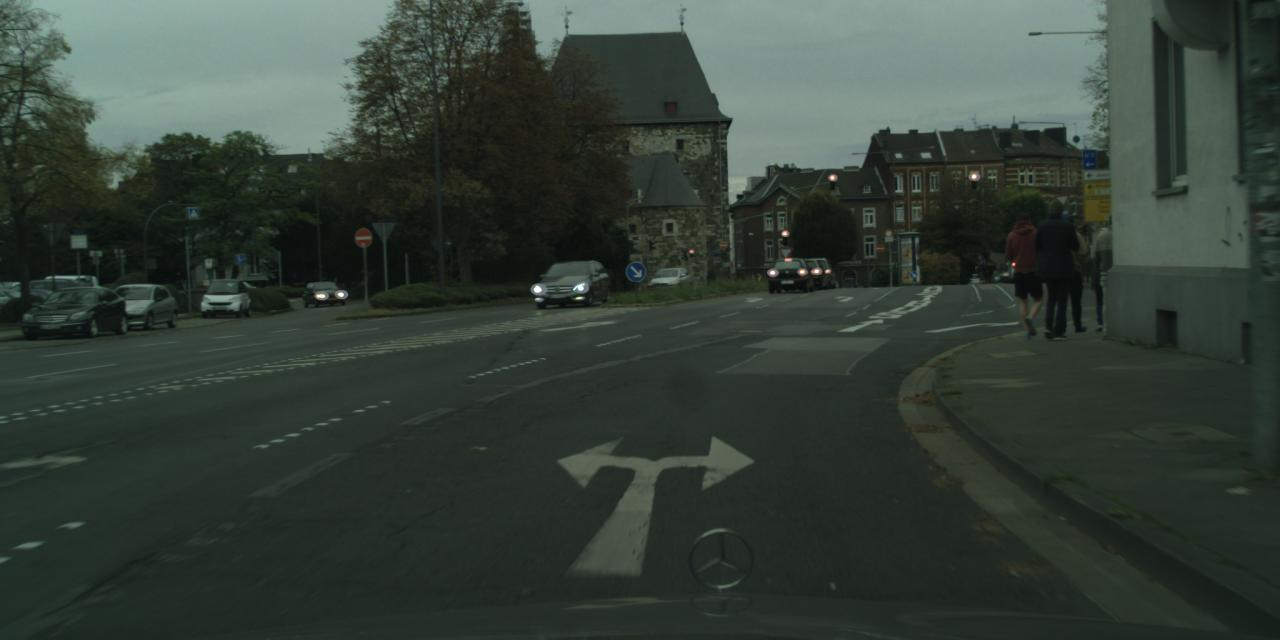ped: (1026, 198, 1082, 338), (1001, 211, 1051, 337), (1091, 213, 1140, 333), (1046, 218, 1092, 332), (1084, 233, 1124, 331), (974, 251, 986, 281)
